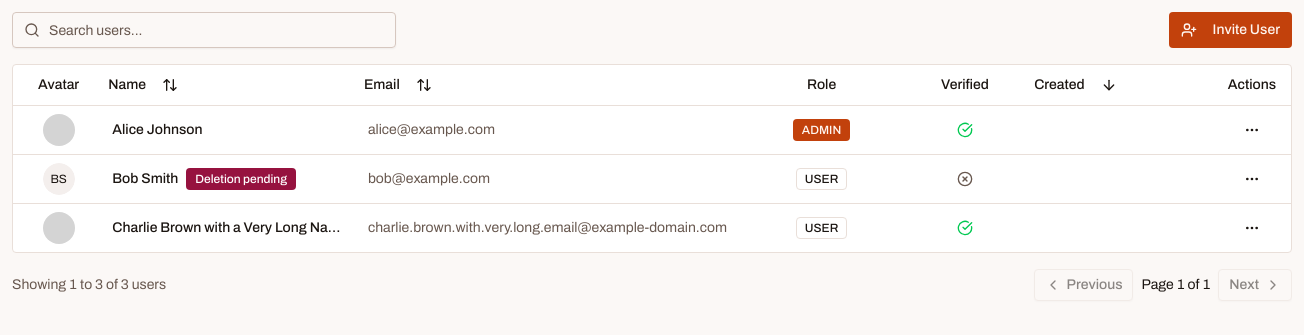
Test: components/admin/user-table › a user whose deletion is pending (t-845) › leaves the Delete action out of the menu for that user, and keeps View Profile and Edit
# Bob (pending) is the second row.
Click the button named "open menu" in the row of "BS".
click(1252, 178)  # box [1236,162,1268,194]
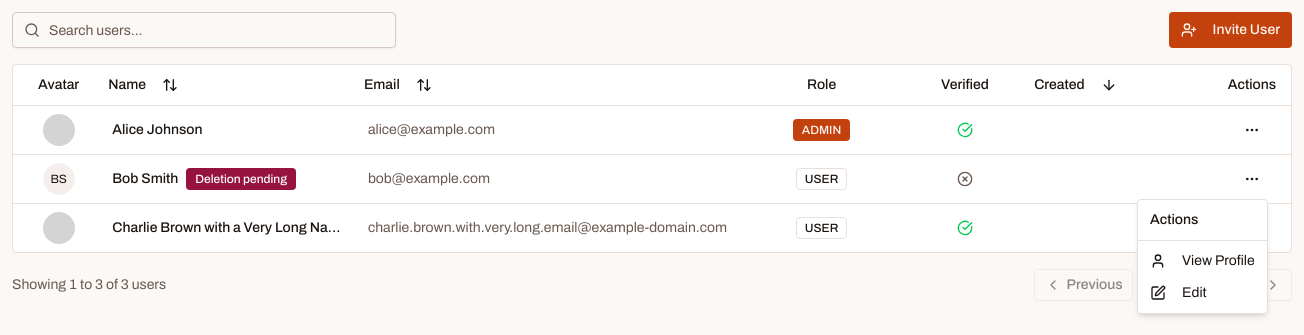
Now the menu item "View Profile" is shown, box [1150,253,1255,269]
Now the menu item "Edit" is shown, box [1150,285,1207,301]
